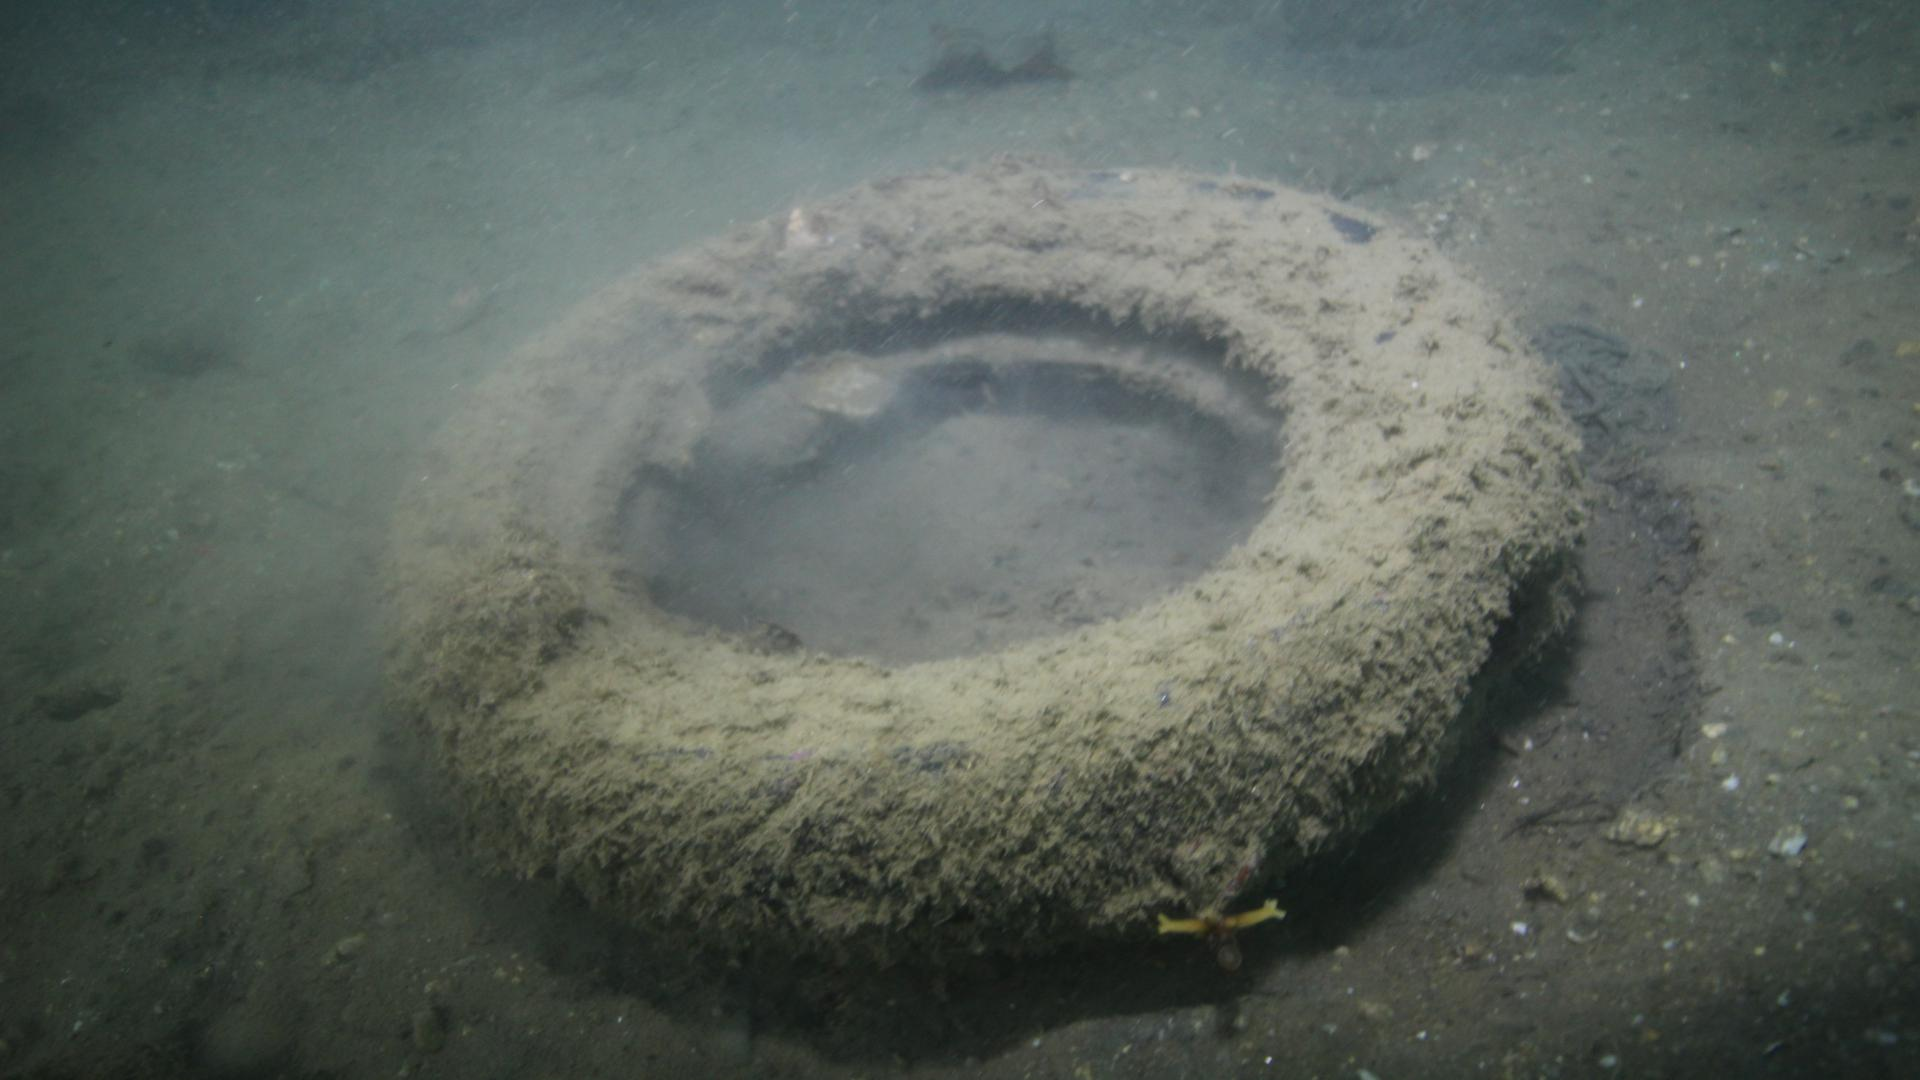tire: (378, 158, 1593, 1011)
